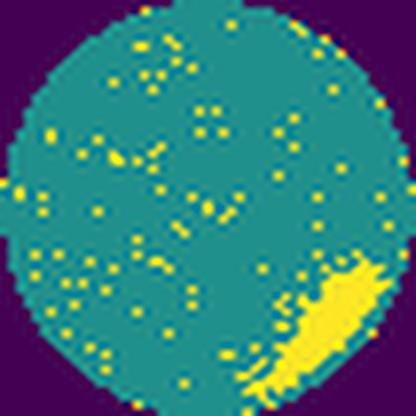Loc: (240, 249, 396, 397)
